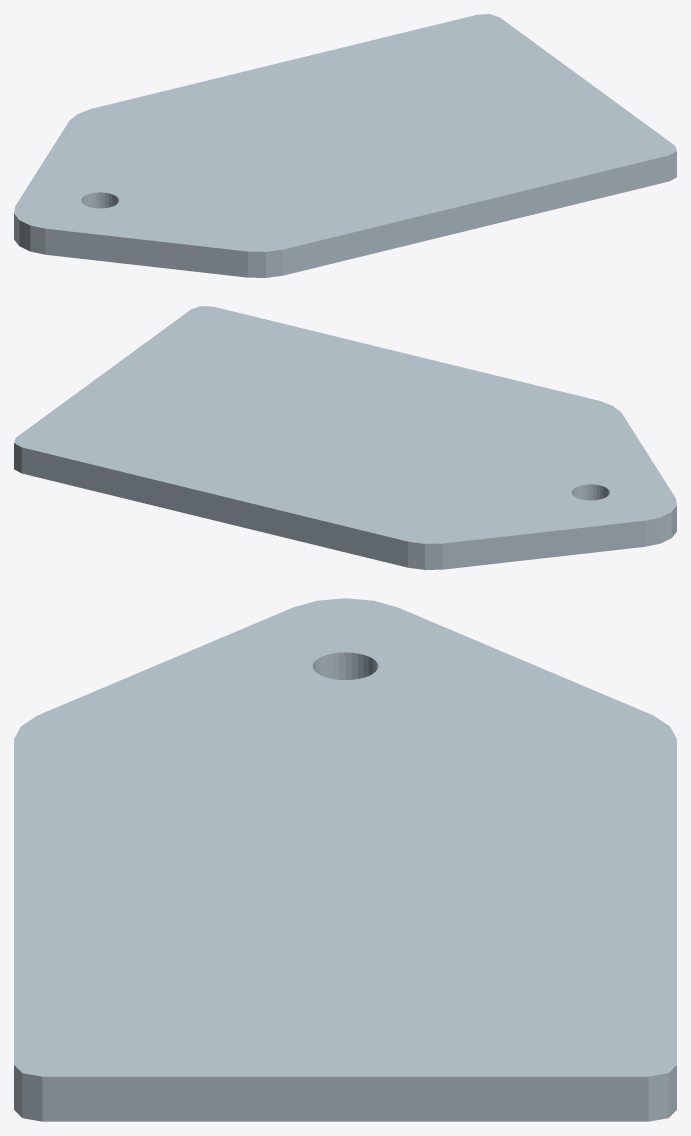
The model's file is Tag.fbx.
3 views of the same model, one above another, from view 1: azimuth 30°, elevation 25°; view 2: azimuth 150°, elevation 25°; view 3: azimuth 270°, elevation 25° (orthographic). The views are drawn at different scales.
Visible parts, largest first — view 1: Plane.005; view 2: Plane.005; view 3: Plane.005.
Part boxes in pixels (bbox=[...]): Plane.005: bbox=[14, 14, 676, 277]; Plane.005: bbox=[14, 306, 676, 569]; Plane.005: bbox=[14, 598, 676, 1121].
Bounding box in the file's own units: 341 × 15 × 200.
